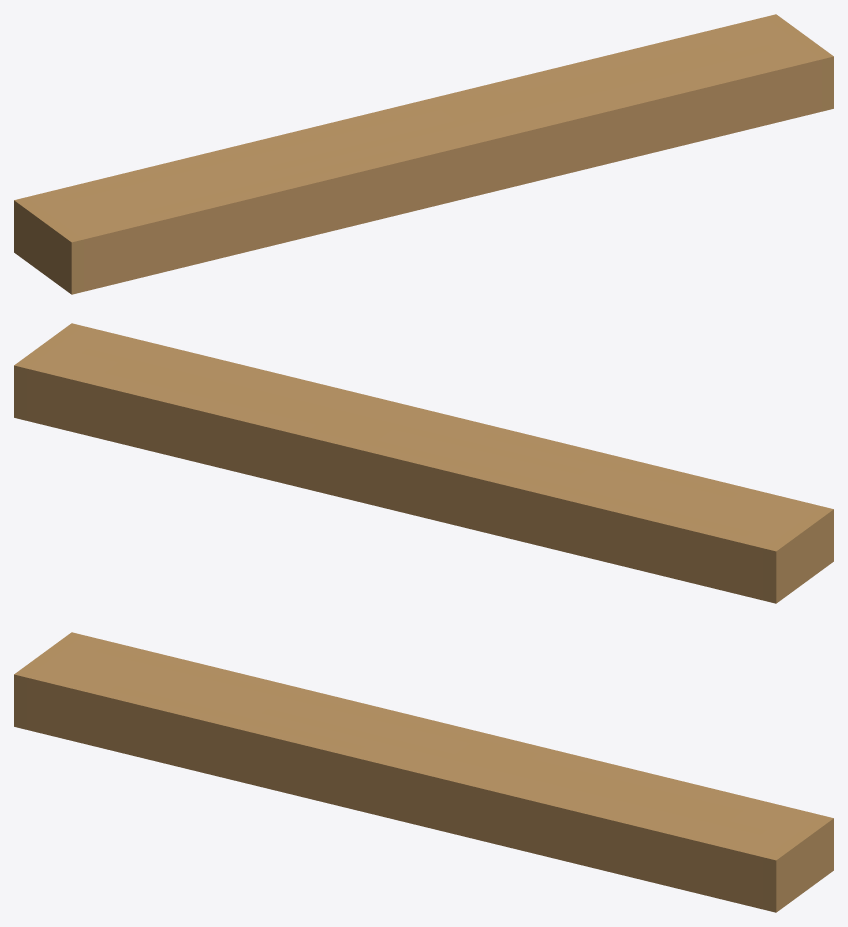
Rendered from plank_short.glb.
3 renders of one model, top to bottom at view 1: azimuth 30°, elevation 25°; view 2: azimuth 150°, elevation 25°; view 3: azimuth 330°, elevation 25°, orthographic.
Parts seen in each view (by area): view 1: plank_short:compound; view 2: plank_short:compound; view 3: plank_short:compound.
Part boxes in pixels (x1=…): plank_short:compound: x1=14, y1=14, x2=833, y2=294; plank_short:compound: x1=14, y1=323, x2=833, y2=603; plank_short:compound: x1=14, y1=632, x2=833, y2=912.
Bounding box in the file's own units: 0.61 × 0.04 × 0.08.
